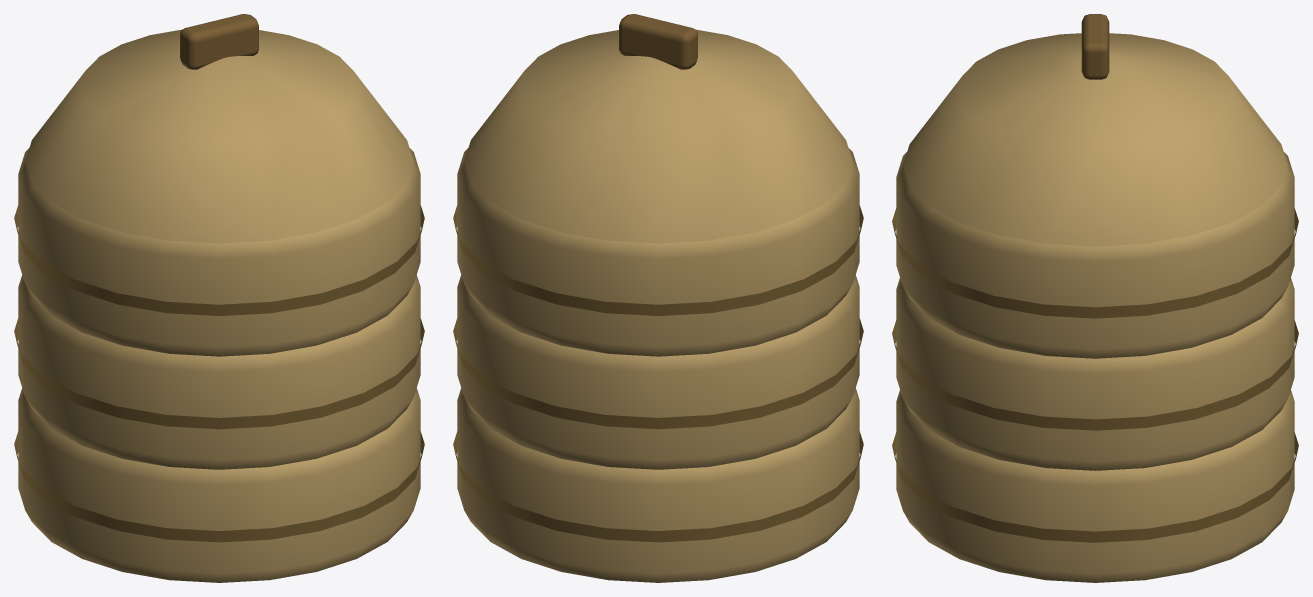
Rendered from furn_steamer_stack.glb.
3 renders of one model, left to right at view 1: azimuth 30°, elevation 25°; view 2: azimuth 150°, elevation 25°; view 3: azimuth 270°, elevation 25°, orthographic.
Visible parts, largest first — view 1: furn_steamer_stack_main; view 2: furn_steamer_stack_main; view 3: furn_steamer_stack_main.
Boxes of the visible parts, x1,y1,x2,y2 form: furn_steamer_stack_main: [14, 14, 424, 582]; furn_steamer_stack_main: [453, 14, 863, 582]; furn_steamer_stack_main: [892, 14, 1298, 582].
Size of the model in its own units: 0.296 by 0.38 by 0.296.
